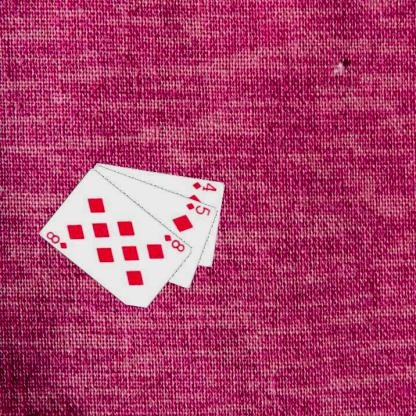4D: (190, 179, 218, 192)
5D: (184, 200, 212, 217)
8D: (43, 229, 68, 250), (162, 232, 186, 253)
